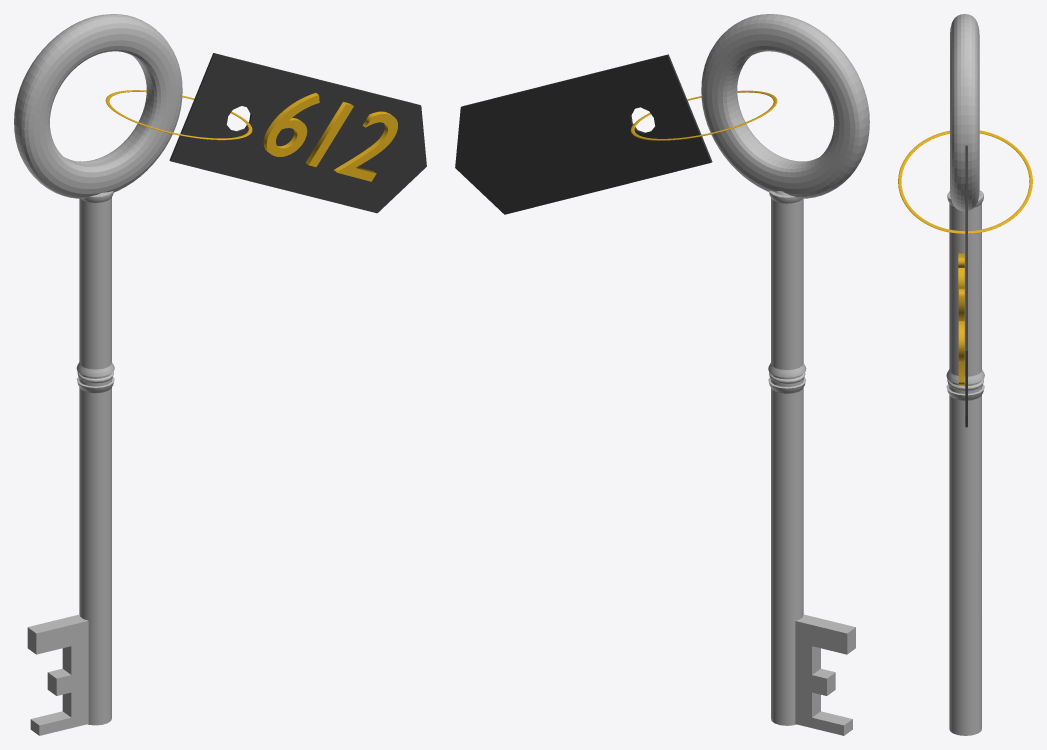
The model's file is key612.fbx.
3 renders of one model, left to right at view 1: azimuth 30°, elevation 25°; view 2: azimuth 150°, elevation 25°; view 3: azimuth 270°, elevation 25°, orthographic.
Visible parts, largest first — view 1: key612; view 2: key612; view 3: key612.
Boxes of the visible parts, <box> form: key612: <box>14,14,426,735</box>; key612: <box>455,14,869,735</box>; key612: <box>898,14,1032,735</box>.
Bounding box in the file's own units: 8.68 × 14.18 × 2.45.
